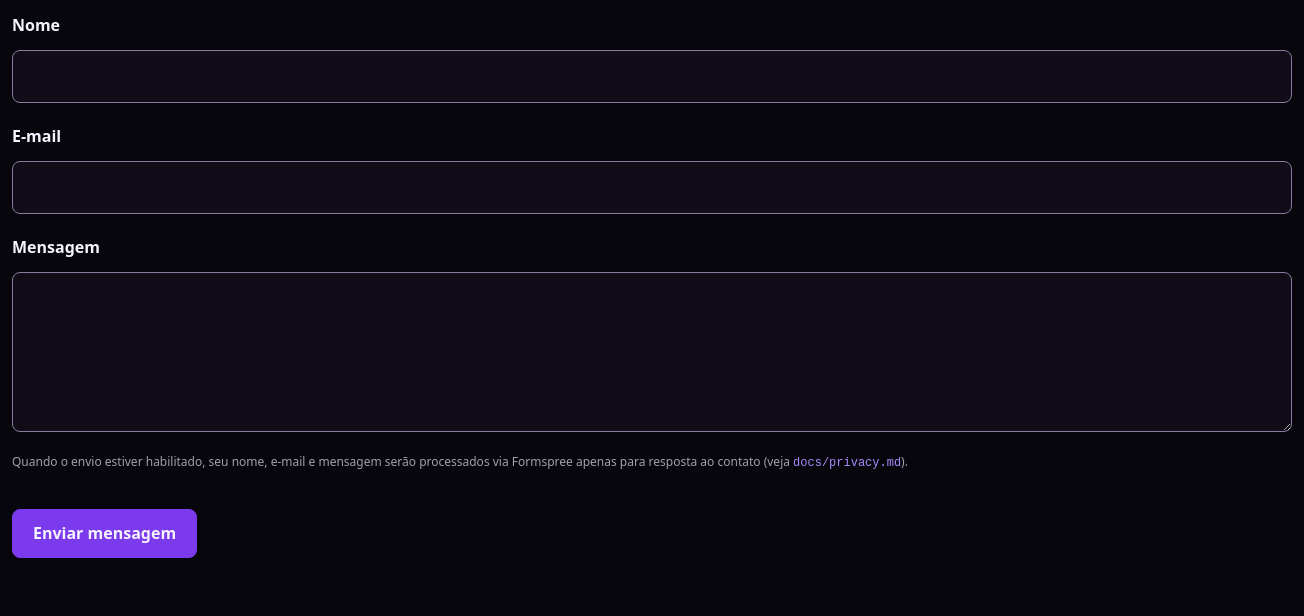
Scenario: ContactForm › envia com sucesso e limpa campos quando Formspree responde ok
Type "Grace Hopper" into the field labelled "Nome" at (652, 77), box 12,50 -> 1292,103
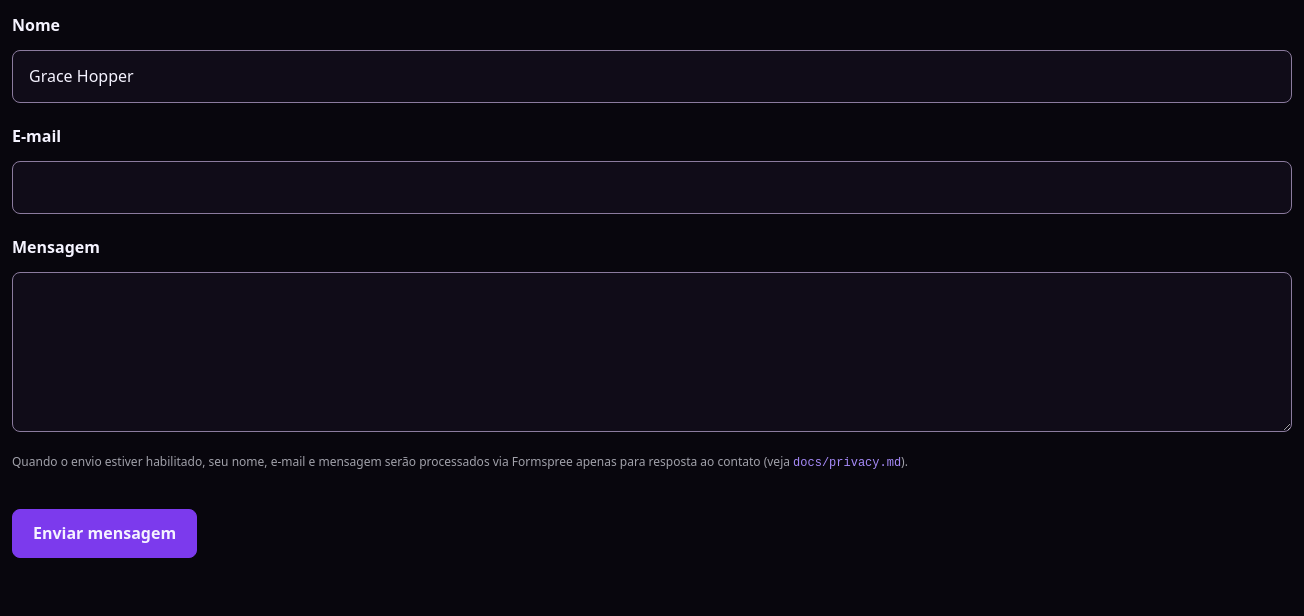
Type "grace@example.com" into the field labelled "E-mail" at (652, 187), box 12,161 -> 1292,214
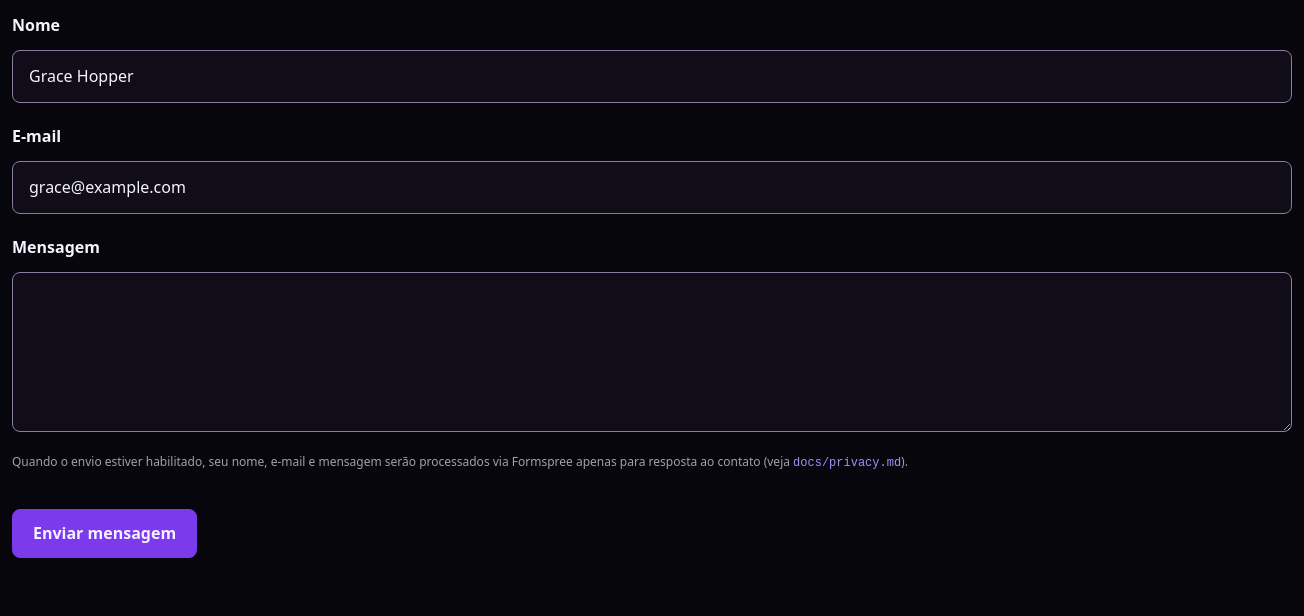
Type "Precisamos estruturar uma integração de dados." into the text box labelled "Mensagem" at (652, 352), box 12,272 -> 1292,432
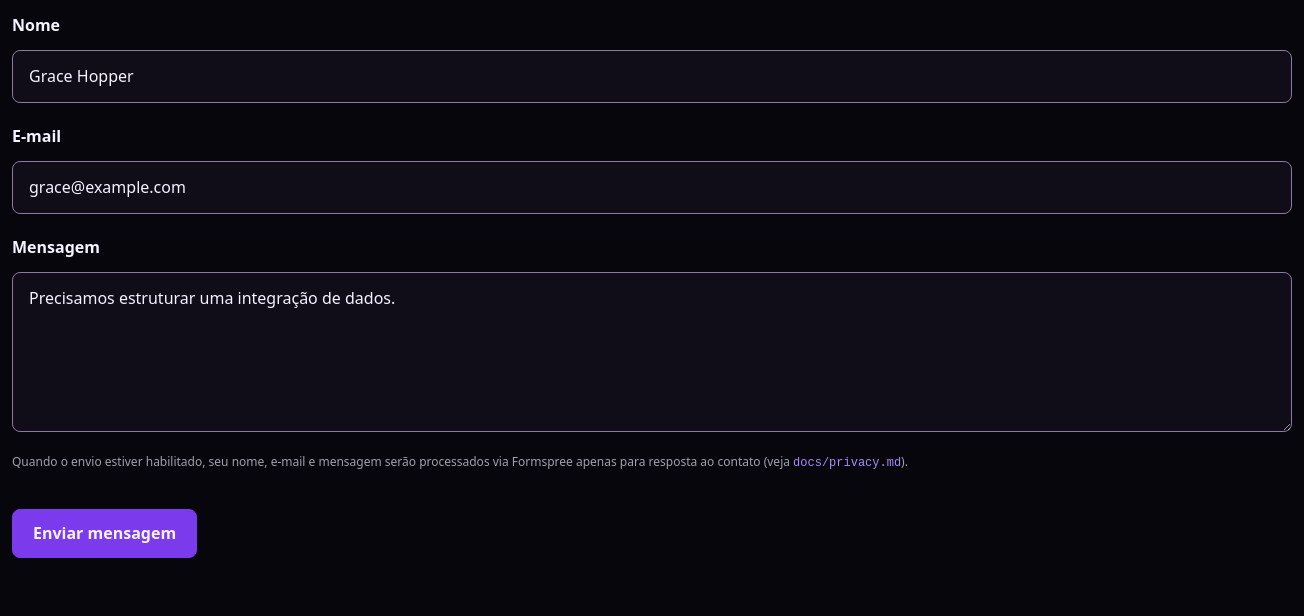
Click the button "Enviar mensagem" at (105, 533), box 12,509 -> 197,558
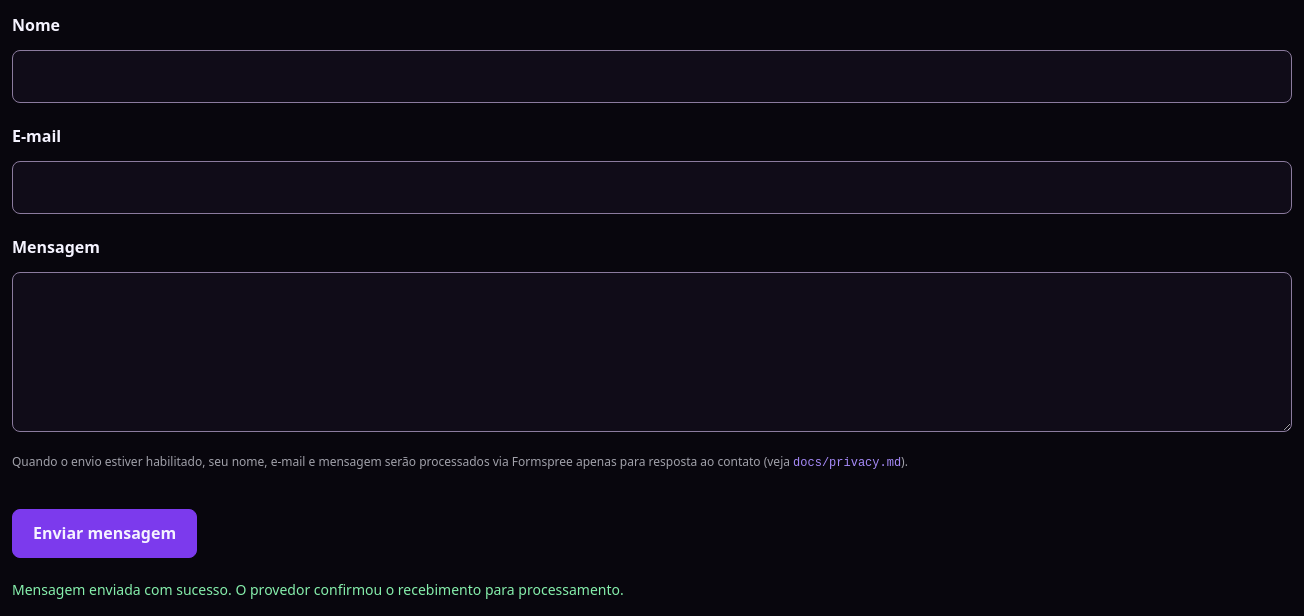
Expected: the text "Mensagem enviada com sucesso" is shown, 12,580 -> 624,598
